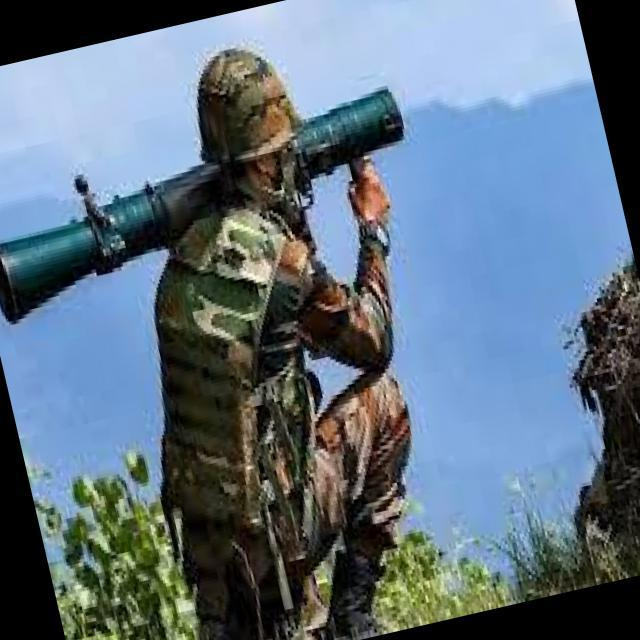rocket: (0, 80, 425, 322)
